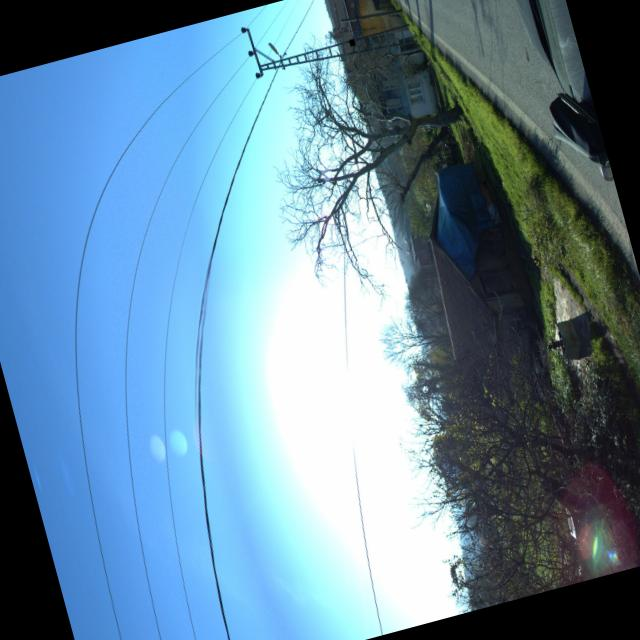Utility Pole Information Plate: (349, 37, 354, 44)
